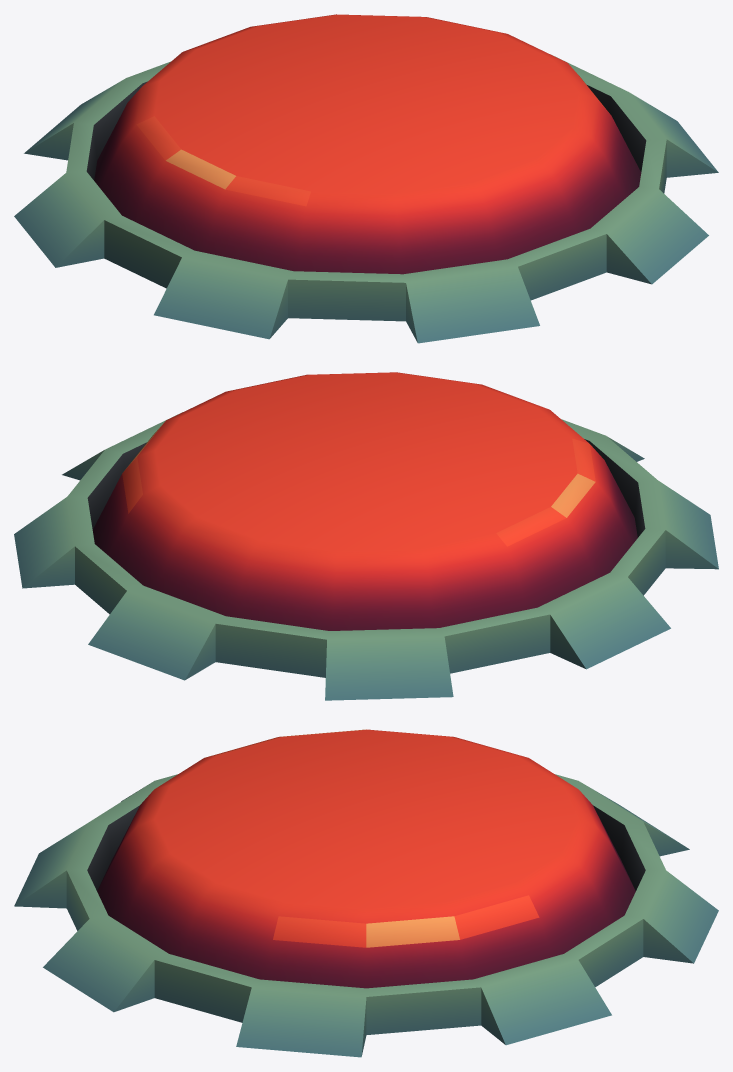
Rendered from mina.fbx.
3 views of the same model, one above another, from view 1: azimuth 30°, elevation 25°; view 2: azimuth 150°, elevation 25°; view 3: azimuth 270°, elevation 25° (orthographic).
Visible parts, largest first — view 1: mina; view 2: mina; view 3: mina.
Part boxes in pixels (x1=…): mina: x1=14, y1=14, x2=718, y2=343; mina: x1=14, y1=372, x2=718, y2=700; mina: x1=14, y1=729, x2=718, y2=1057.
Size of the model in its own units: 118 by 16.44 by 118.
